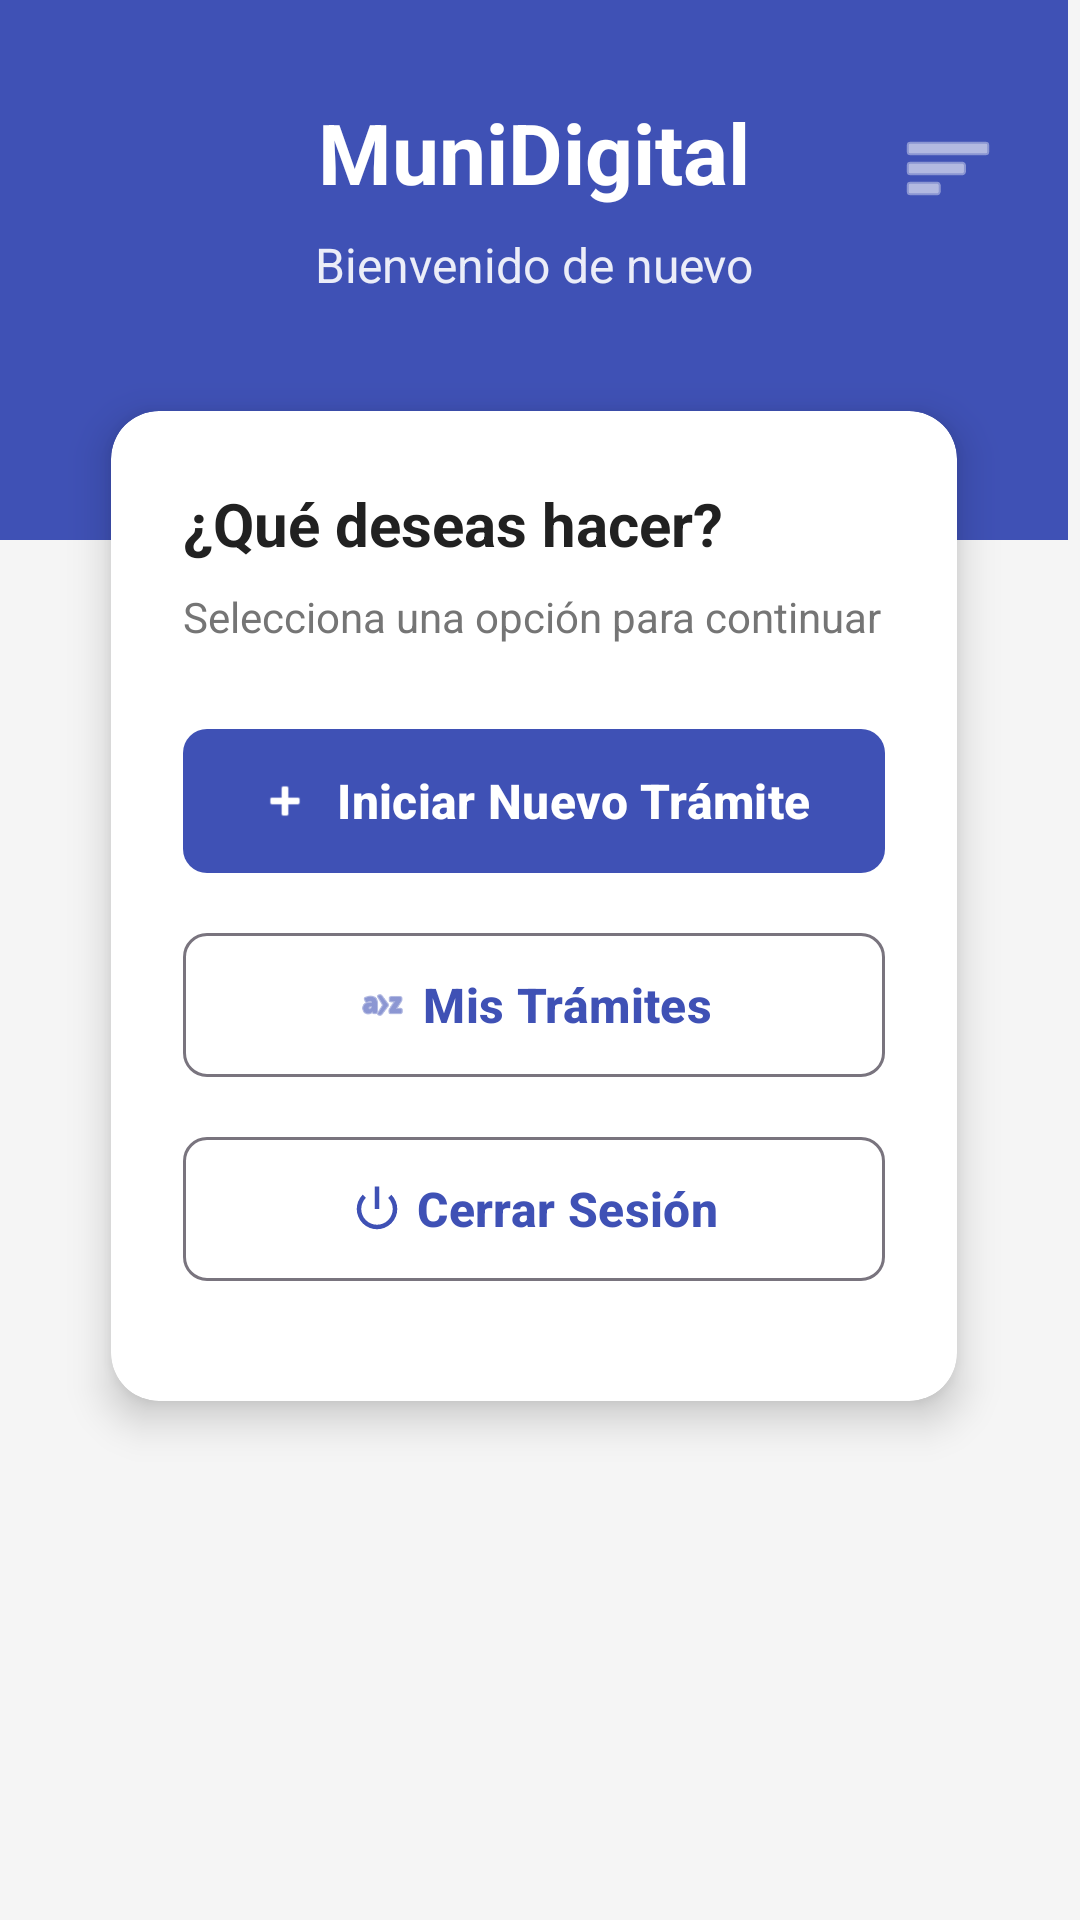

Screen size 1080px×1920px. Icon name, then its center in pixels as (x,y):
Navigation Menu: (948,168)
